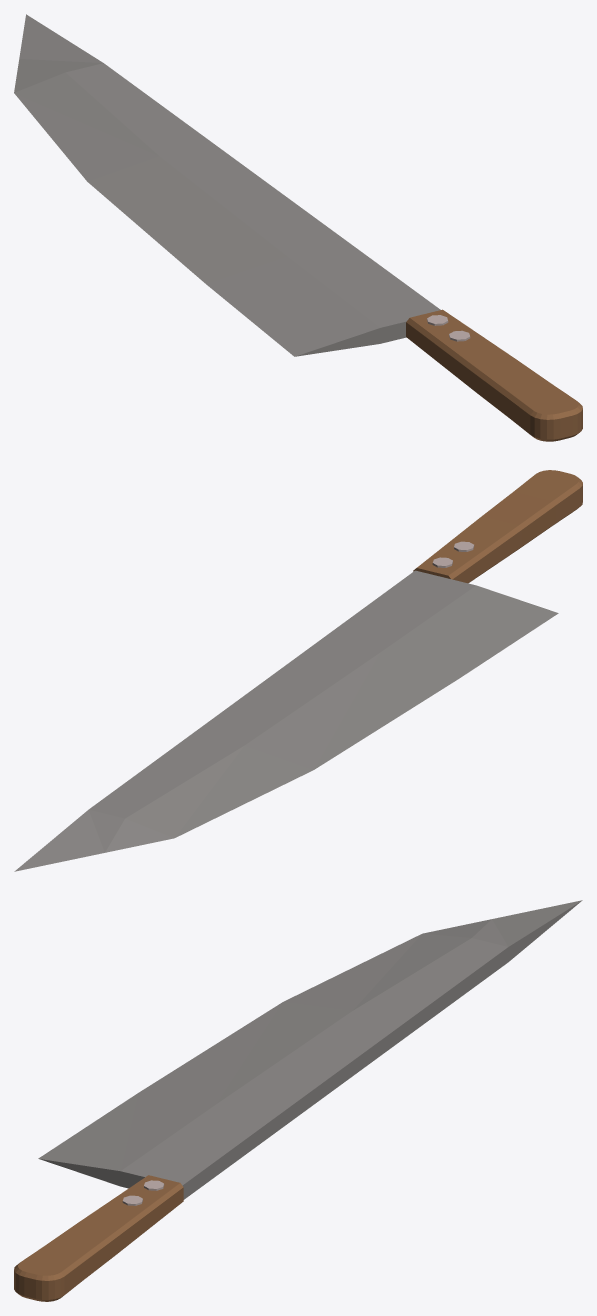
Rendered from Knife_03.fbx.
3 renders of one model, top to bottom at view 1: azimuth 30°, elevation 25°; view 2: azimuth 150°, elevation 25°; view 3: azimuth 330°, elevation 25°, orthographic. The views are drawn at different scales.
Visible parts, largest first — view 1: Knife_03; view 2: Knife_03; view 3: Knife_03.
Boxes of the visible parts, box(x1,y1,x2,y2) form: Knife_03: box(14, 14, 582, 441); Knife_03: box(14, 470, 582, 871); Knife_03: box(14, 900, 582, 1301).
Bounding box in the file's own units: 7.02 × 1.17 × 43.4.
